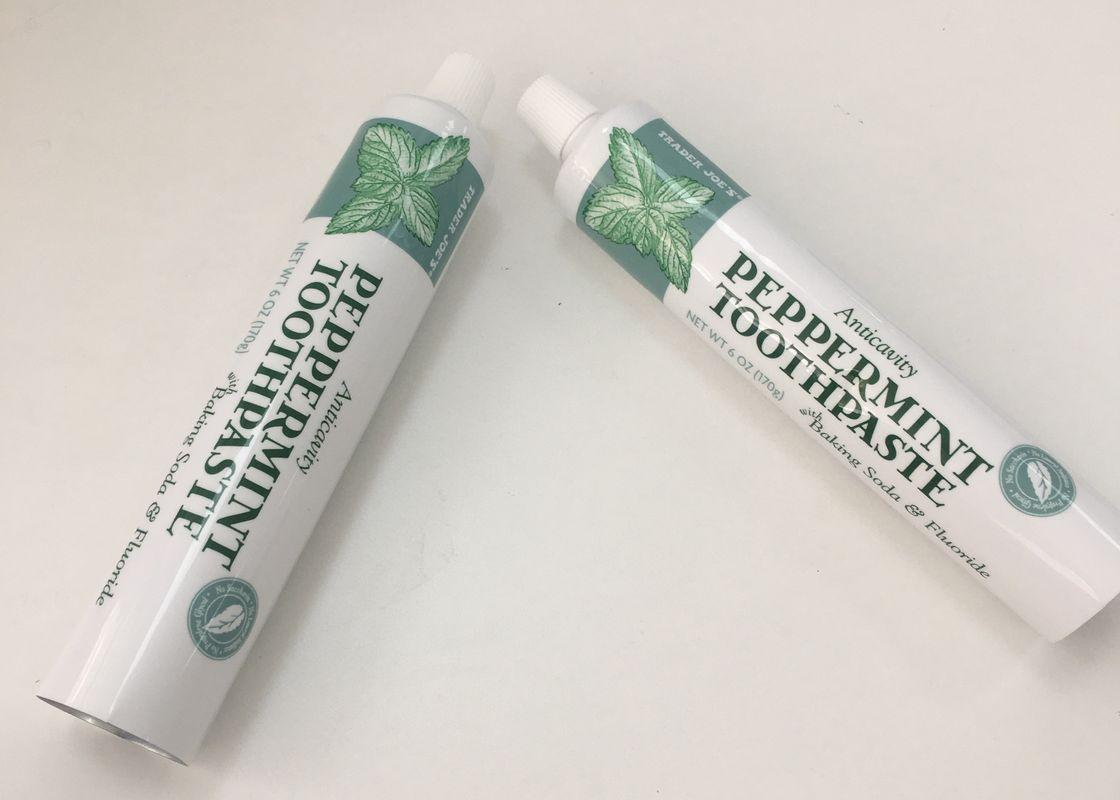toothpaste: (508, 53, 1120, 660), (41, 39, 500, 800)
